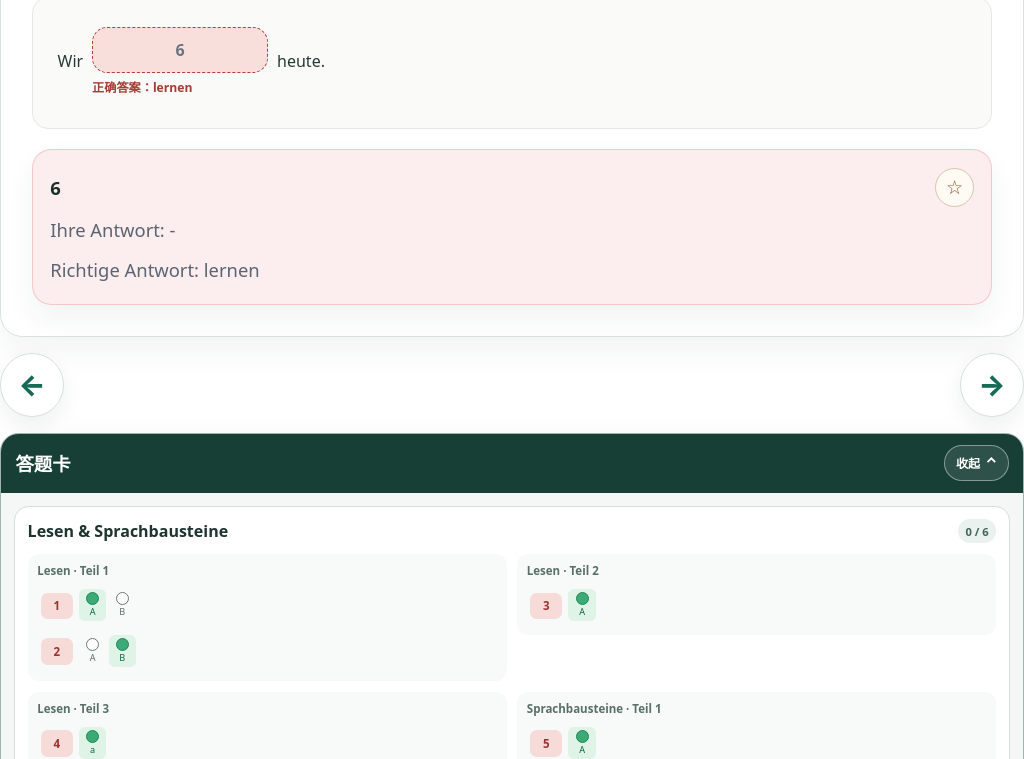
Test case: mock exam exercise layout › crosses from Sprachbausteine to Hören with arrows in the completed review
The image size is (1024, 759).
(page scrolled)
Click the button named "下一部分".
click(992, 385)  # box [960, 353, 1023, 417]
(page scrolled)
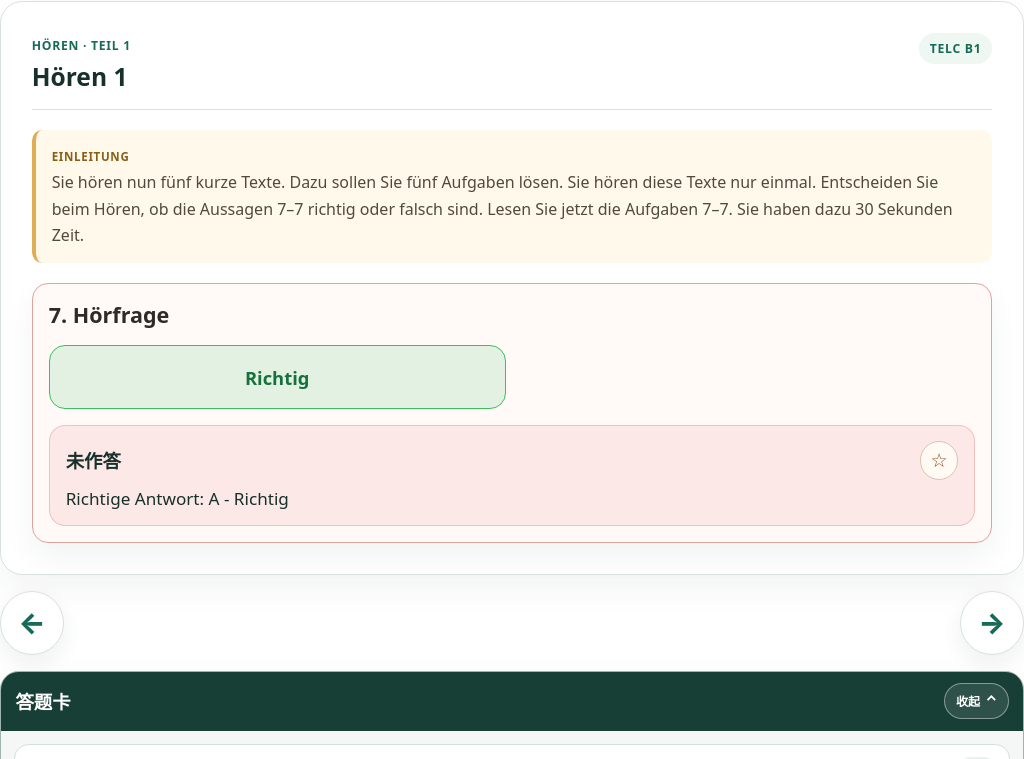
Expected: the heading "7. Hörfrage" is shown, [49, 300, 169, 329]
